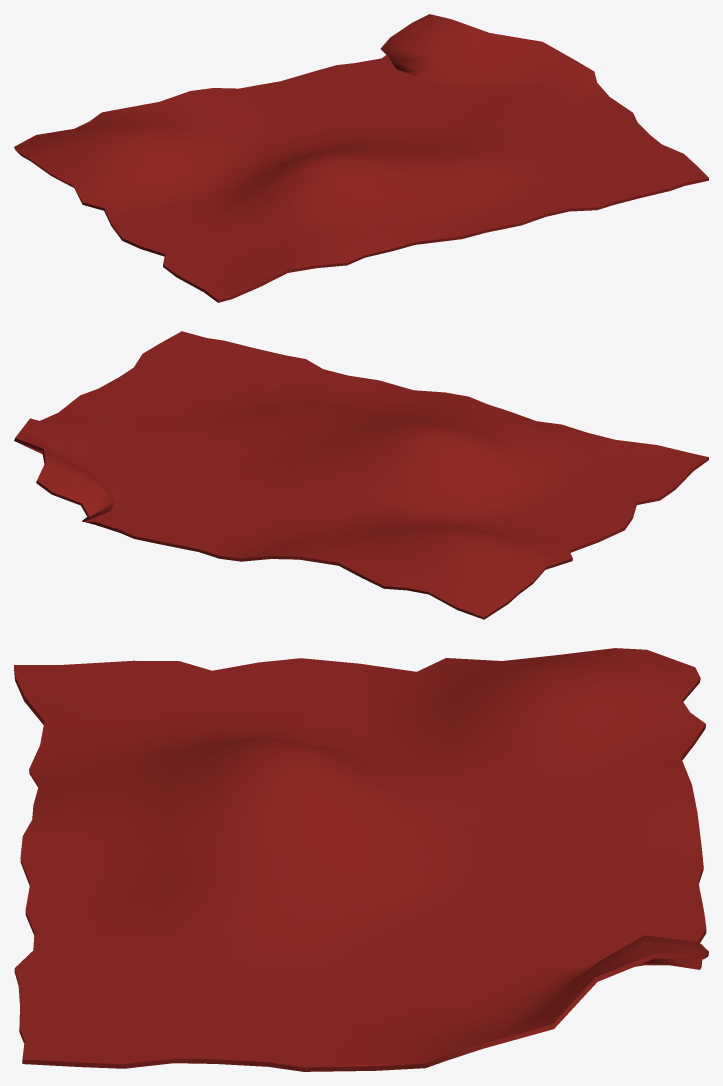
File: cloth.glb
3 renders of one model, top to bottom at view 1: azimuth 30°, elevation 25°; view 2: azimuth 150°, elevation 25°; view 3: azimuth 270°, elevation 25°, orthographic. The views are drawn at different scales.
Visible parts, largest first — view 1: cloth; view 2: cloth; view 3: cloth.
Part boxes in pixels (left/top/right/bottom): cloth: left=14, top=14, right=708, bottom=302; cloth: left=14, top=331, right=708, bottom=619; cloth: left=14, top=648, right=708, bottom=1071.
Size of the model in its own units: 0.3528 by 0.0251 by 0.2509.
